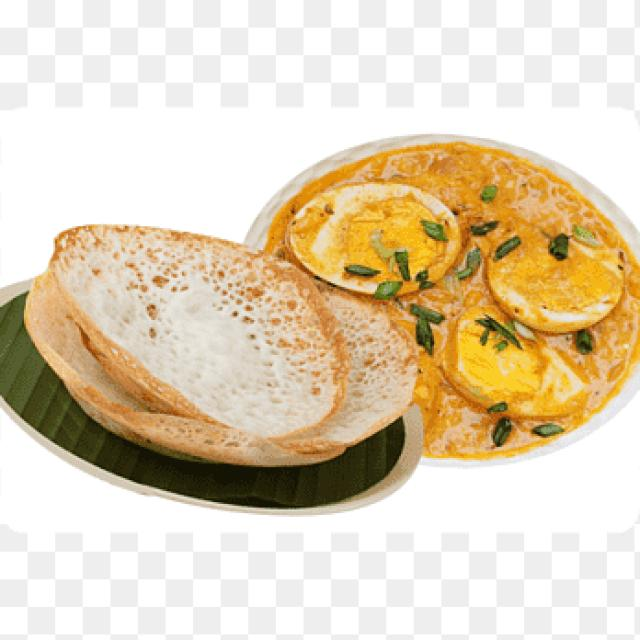AAPAM: (24, 226, 417, 465)
EGG: (267, 142, 638, 454)
